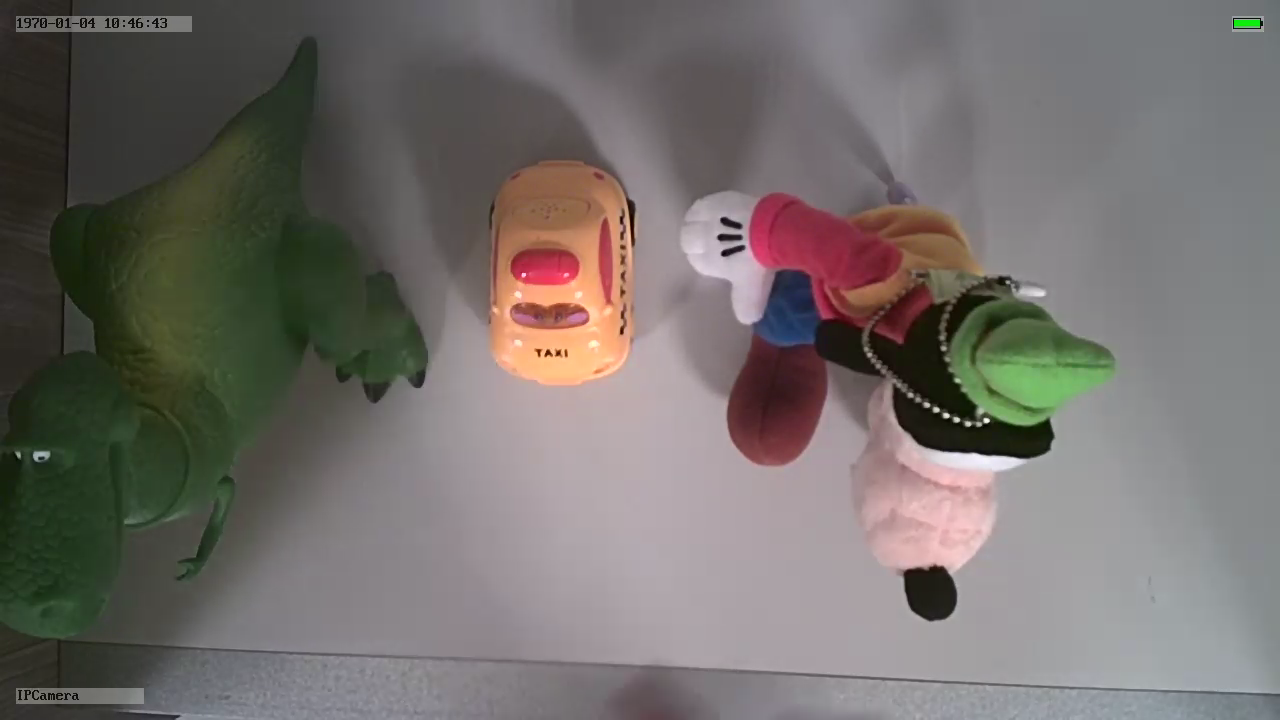goofy: (679, 185, 1119, 638)
